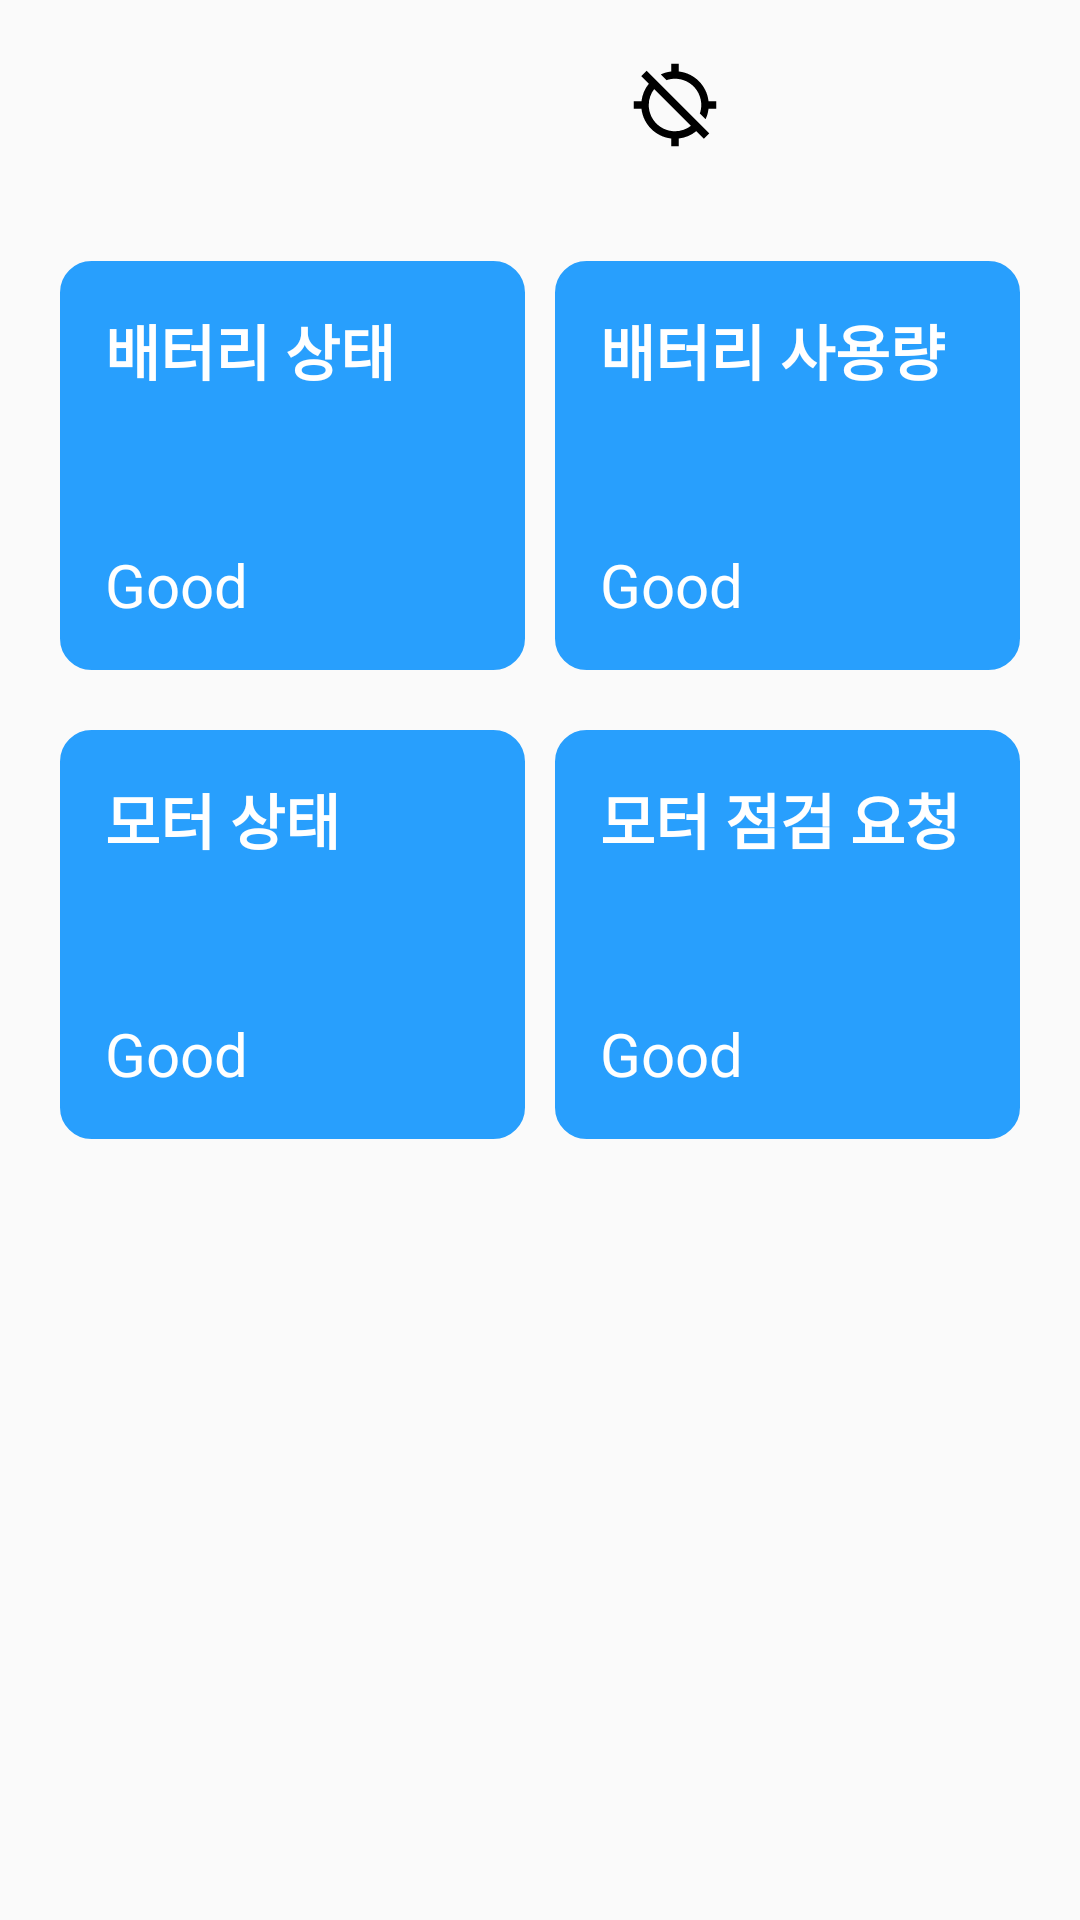

Icon click points for this 1080x1920 phone screenshot, format (x=x, y=y):
gps off: (x=675, y=105)
